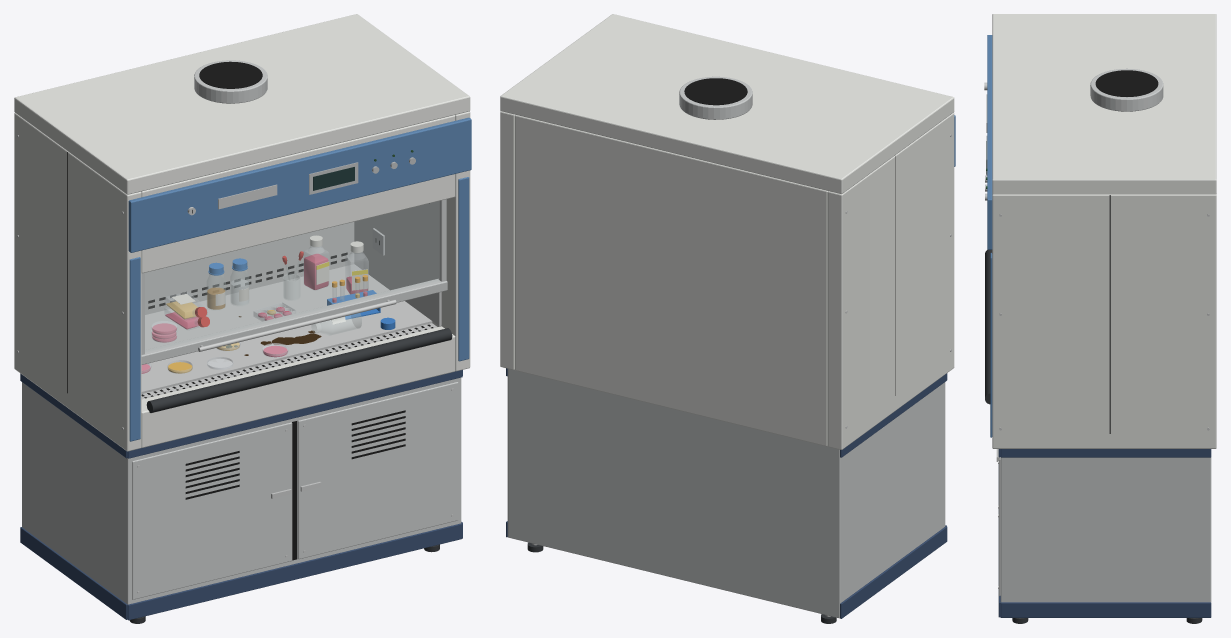
The model's file is biosafety_cabinet.glb.
3 views of the same model, side by side, from view 1: azimuth 30°, elevation 25°; view 2: azimuth 150°, elevation 25°; view 3: azimuth 270°, elevation 25° (orthographic).
Visible parts, largest first — view 1: HoodPaint, HoodPaintGrey, HoodSteel, HoodGlass, HoodBlue, HoodDarkBlue, HoodSlot, LabPlastic, HoodRubber, LabMedium, LabGlass, LabPaper (+3 smaller); view 2: HoodPaint, HoodPaintGrey, HoodDarkBlue, HoodSlot; view 3: HoodPaint, HoodPaintGrey, HoodDarkBlue, HoodSlot, HoodBlue, HoodRubber.
Part boxes in pixels (left/top/right/bottom): HoodPaint: left=14, top=14, right=470, bottom=451; HoodPaintGrey: left=22, top=60, right=461, bottom=604; HoodSteel: left=17, top=135, right=454, bottom=593; HoodGlass: left=145, top=201, right=439, bottom=352; HoodBlue: left=128, top=117, right=471, bottom=441; HoodDarkBlue: left=20, top=370, right=462, bottom=620; HoodSlot: left=67, top=61, right=433, bottom=560; LabPlastic: left=141, top=246, right=368, bottom=373; HoodRubber: left=129, top=328, right=452, bottom=623; LabMedium: left=141, top=254, right=367, bottom=373; LabGlass: left=207, top=261, right=361, bottom=335; LabPaper: left=172, top=235, right=367, bottom=324; HoodPaint: left=500, top=14, right=954, bottom=449; HoodPaintGrey: left=507, top=76, right=945, bottom=618; HoodDarkBlue: left=506, top=368, right=947, bottom=618; HoodSlot: left=684, top=78, right=895, bottom=395; HoodPaint: left=992, top=14, right=1216, bottom=448; HoodPaintGrey: left=999, top=68, right=1211, bottom=602; HoodDarkBlue: left=998, top=449, right=1211, bottom=617; HoodSlot: left=1095, top=70, right=1158, bottom=433; HoodBlue: left=987, top=35, right=992, bottom=437; HoodRubber: left=985, top=249, right=1202, bottom=623.
Bounding box in the file's own units: 1.4 × 1.83 × 0.8287.
